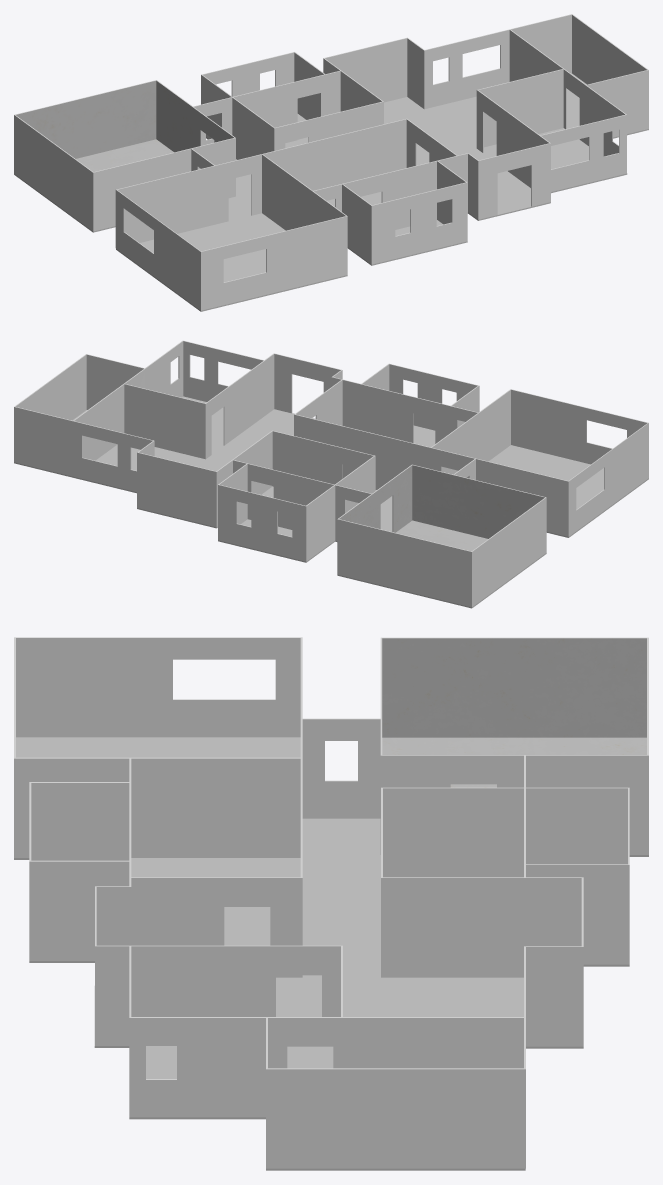
File: Casa_Version06.fbx
3 views of the same model, one above another, from view 1: azimuth 30°, elevation 25°; view 2: azimuth 150°, elevation 25°; view 3: azimuth 270°, elevation 25° (orthographic). The views are drawn at different scales.
Visible parts, largest first — view 1: WallsHouse, FloorHouse; view 2: WallsHouse, FloorHouse; view 3: WallsHouse, FloorHouse.
Boxes of the visible parts, box(x1,y1,x2,y2) form: WallsHouse: box(14, 14, 648, 310); FloorHouse: box(14, 73, 648, 311); WallsHouse: box(14, 340, 648, 607); FloorHouse: box(14, 396, 648, 608); WallsHouse: box(14, 637, 648, 1168); FloorHouse: box(14, 737, 648, 1170).
Size of the model in its own units: 26561 by 2910 by 16503.
